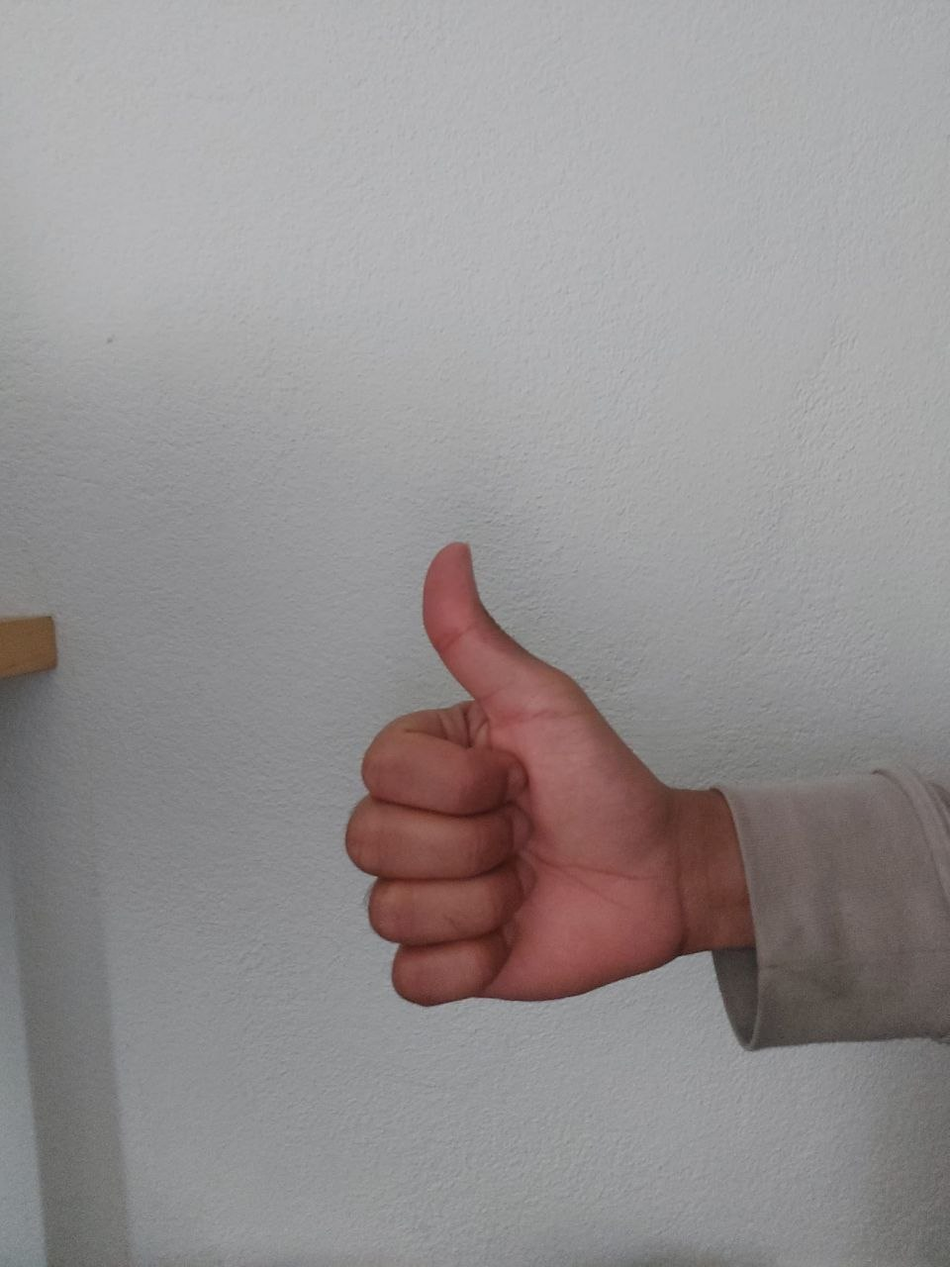Thumbs up: (260, 485, 768, 1085)
